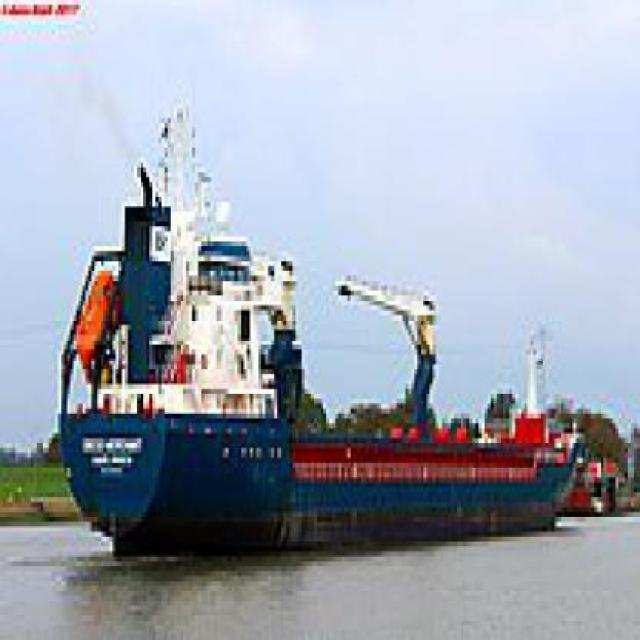container: (43, 70, 614, 563)
